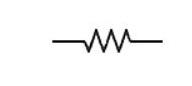resistor: (76, 22, 140, 55)
